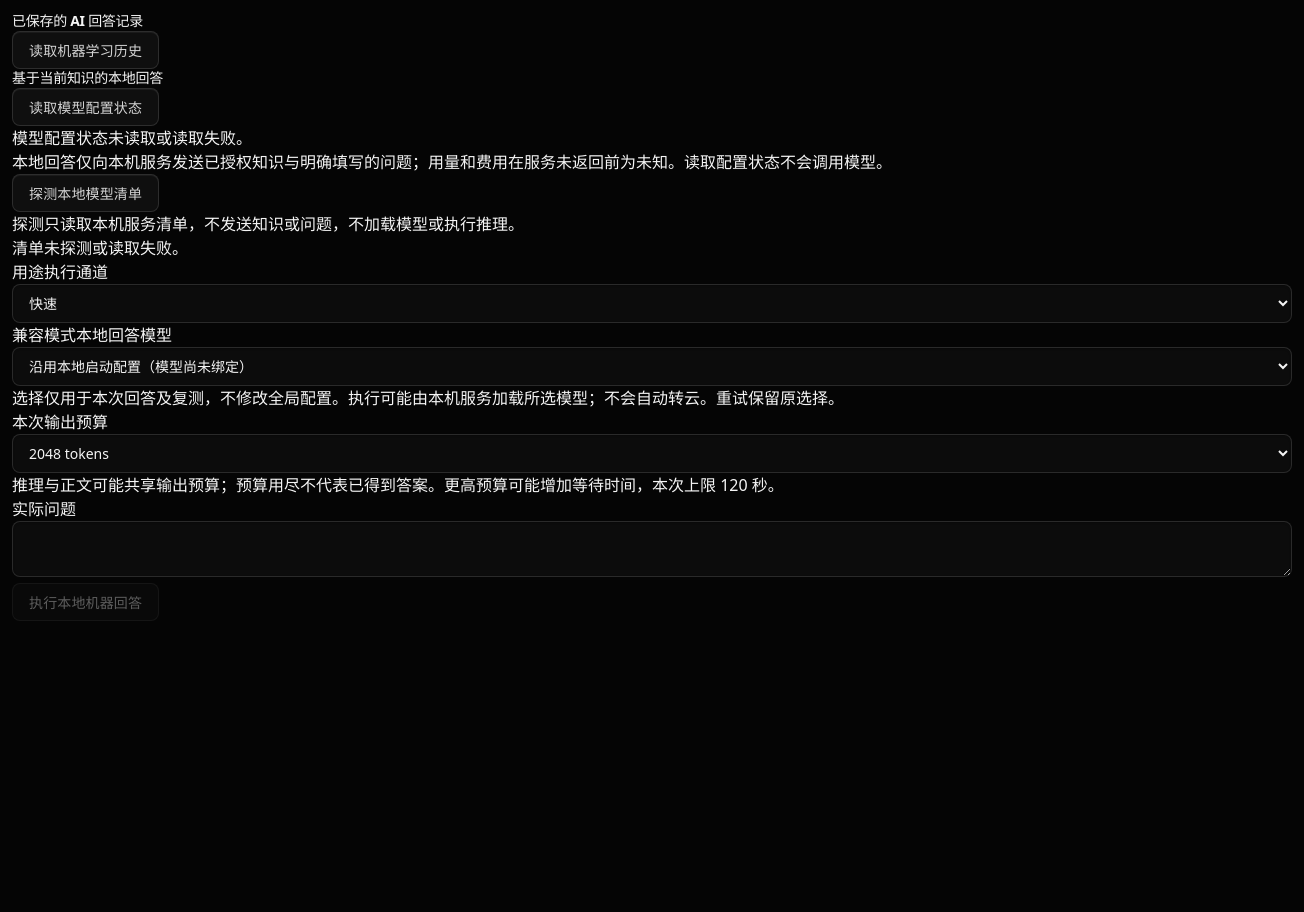
Scenario: SIMULATED machine candidate UI with Core bridge fixtures › withholds an answer when the persistent task readback differs
Type "实际问题" into the text box labelled "实际问题" at (652, 549), box [12,521,1292,577]
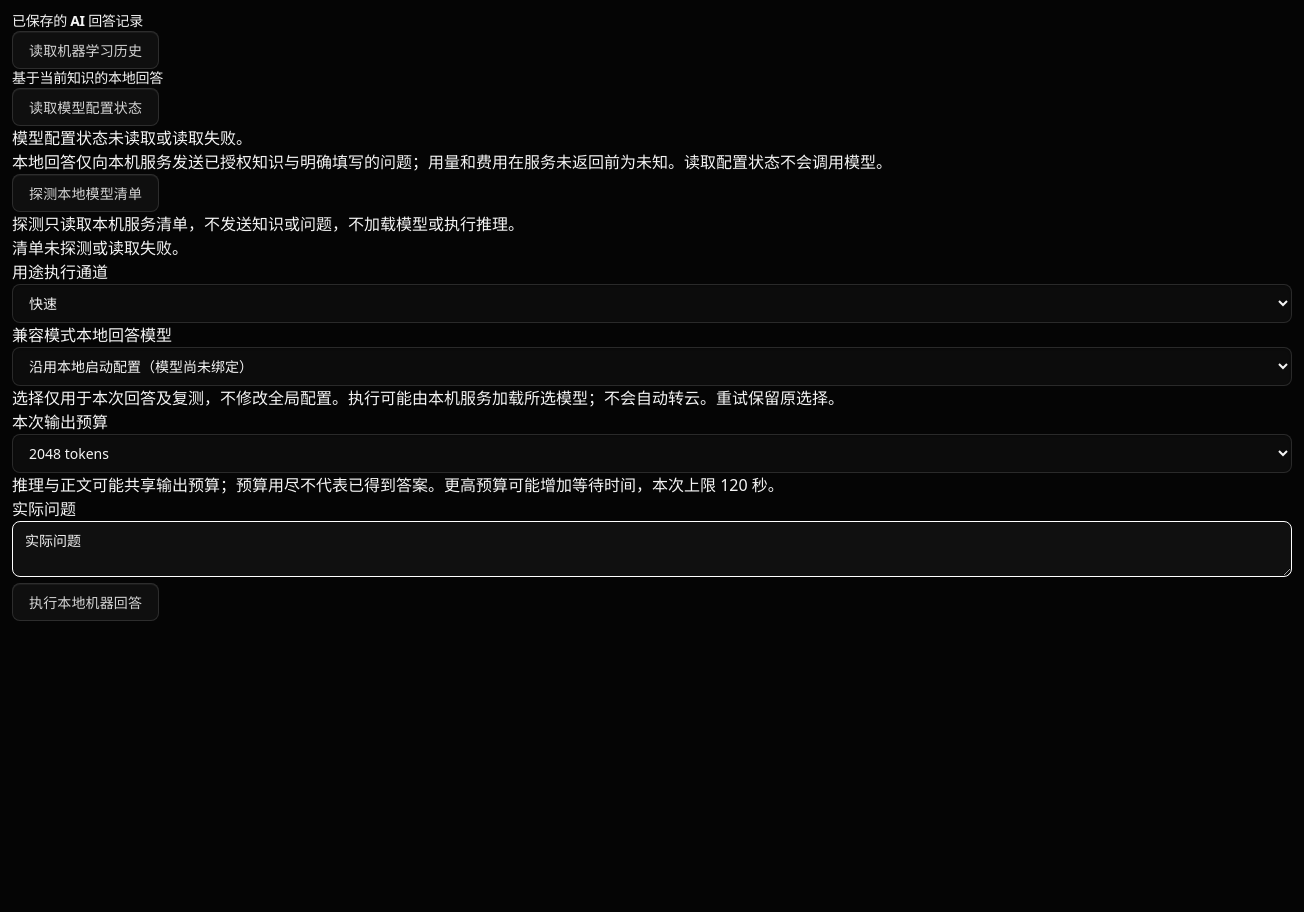
Click the button "执行本地机器回答" at (86, 602), box [12,583,159,621]
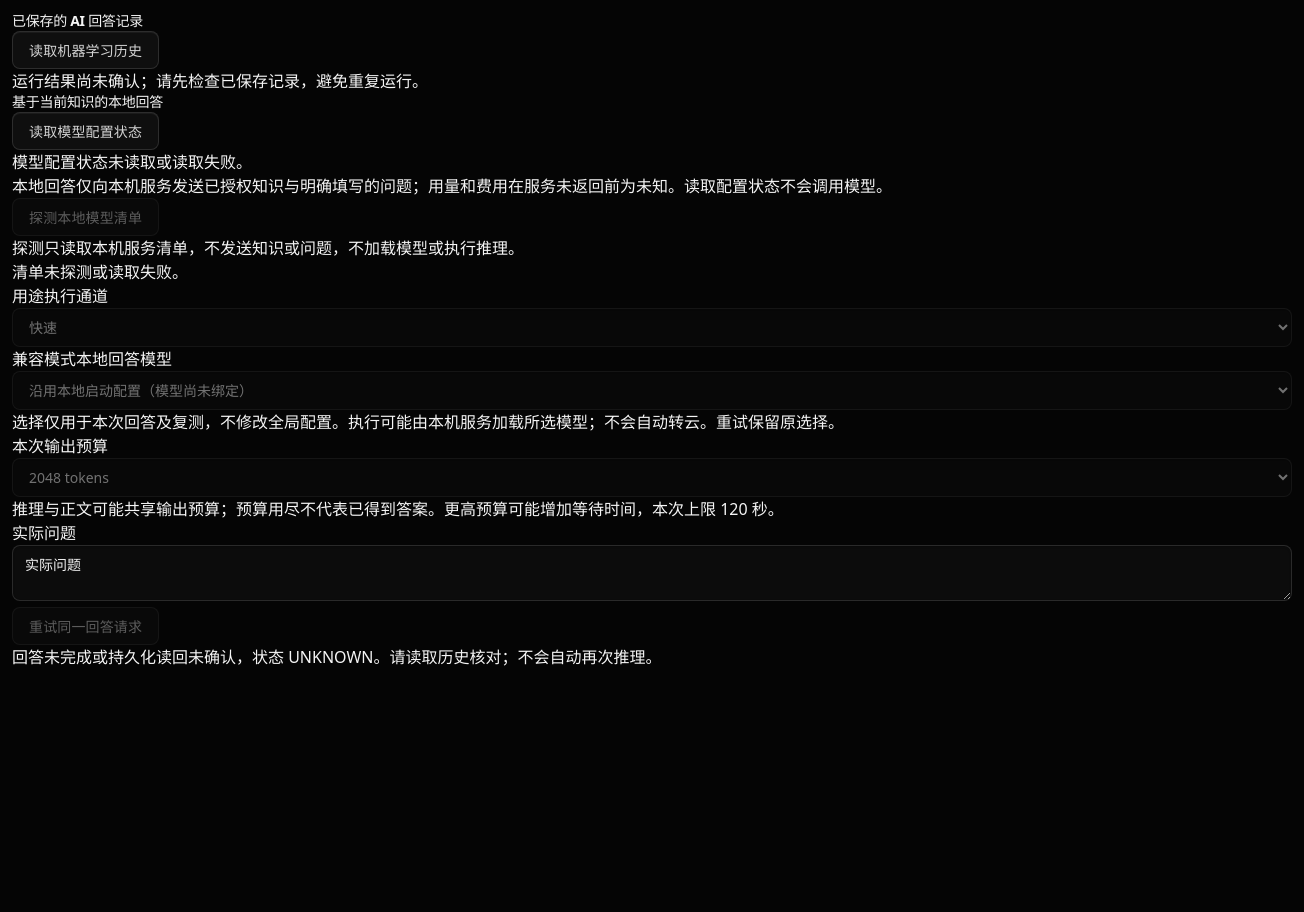
Expected: the text "回答未完成或持久化读回未确认，状态 UNKNOWN。请读取历史核对；不会自动再次推理。" is shown, [12,646,662,668]
